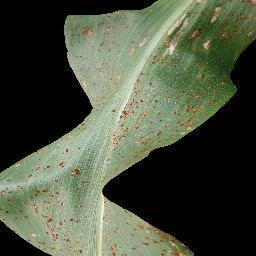Corn_Common_Rust: (0, 136, 81, 256), (63, 6, 148, 93), (148, 53, 231, 138), (105, 200, 199, 256), (158, 0, 256, 53), (81, 94, 149, 160)
